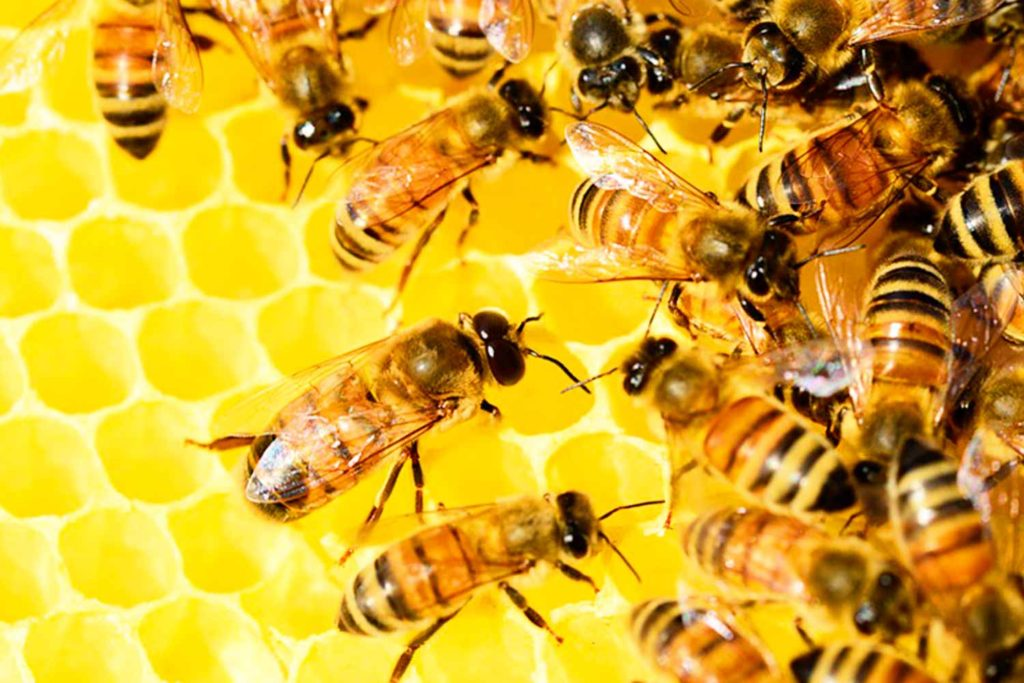bee: (206, 285, 571, 547), (313, 465, 653, 668), (319, 68, 566, 289)
